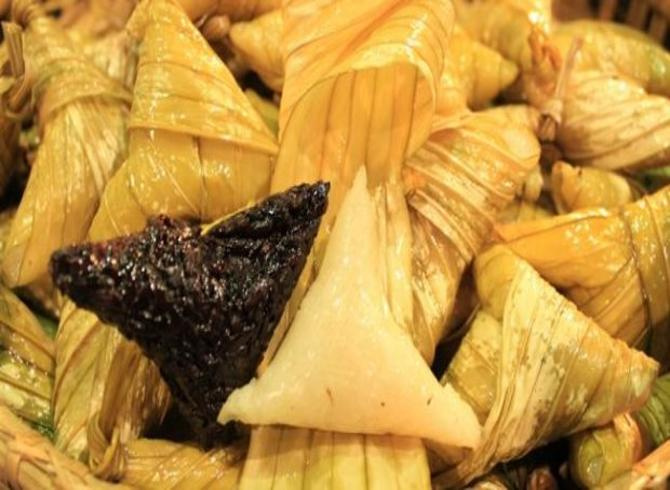kanomtom: (429, 225, 662, 476), (76, 3, 285, 265)
